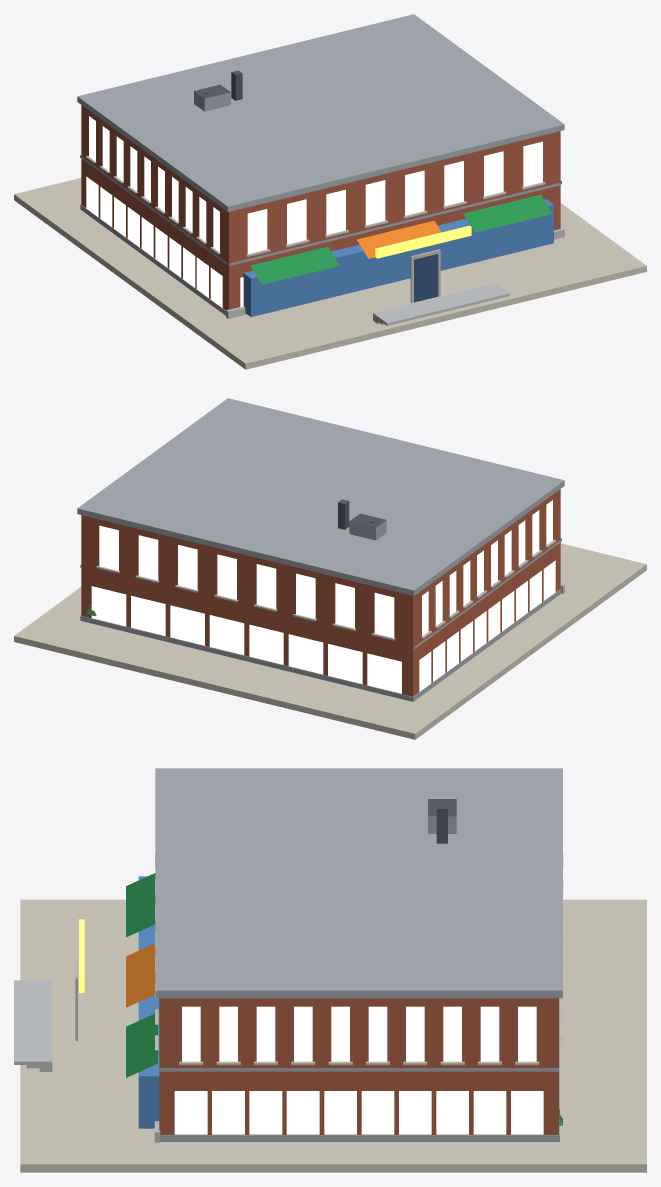
3 views of the same model, one above another, from view 1: azimuth 30°, elevation 25°; view 2: azimuth 150°, elevation 25°; view 3: azimuth 270°, elevation 25° (orthographic). The views are drawn at different scales.
Visible parts, largest first — view 1: b12_x2; view 2: b12_x2; view 3: b12_x2.
Boxes of the visible parts, x1,y1,x2,y2 form: b12_x2: (14, 14, 646, 369); b12_x2: (14, 398, 646, 739); b12_x2: (14, 768, 646, 1172).
Bounding box in the file's own units: 1.96 × 0.685 × 1.98.
